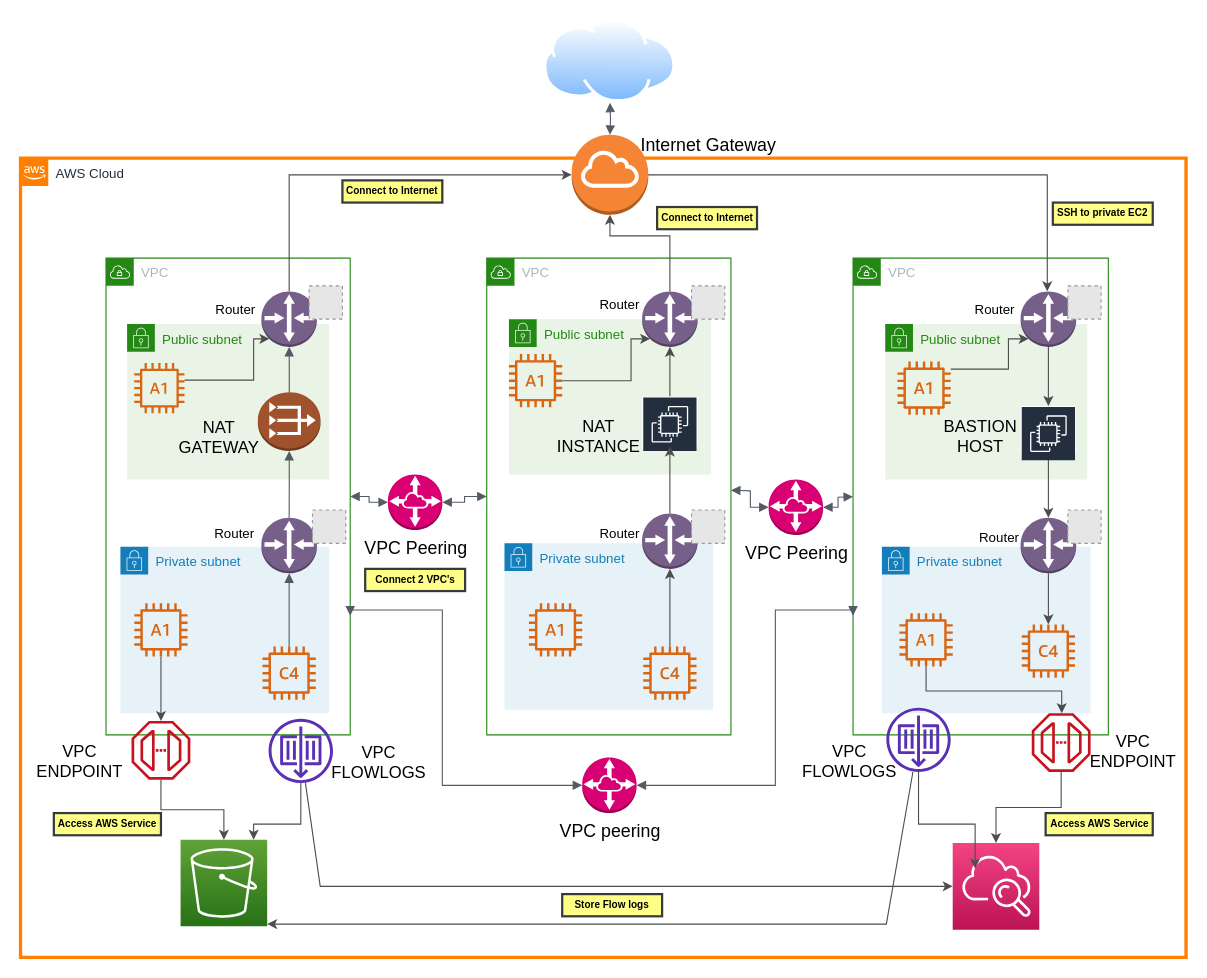
Image size: 1207x978. Some labels were removed from this diagram. Grey dashed boxes stand in for pictures. The centre of each missing label's shape, as x and y in pixels:
"Cloud Watch" belongs at [995,886].
"Internet" belongs at [609,60].
"S3" belongs at [223,882].
